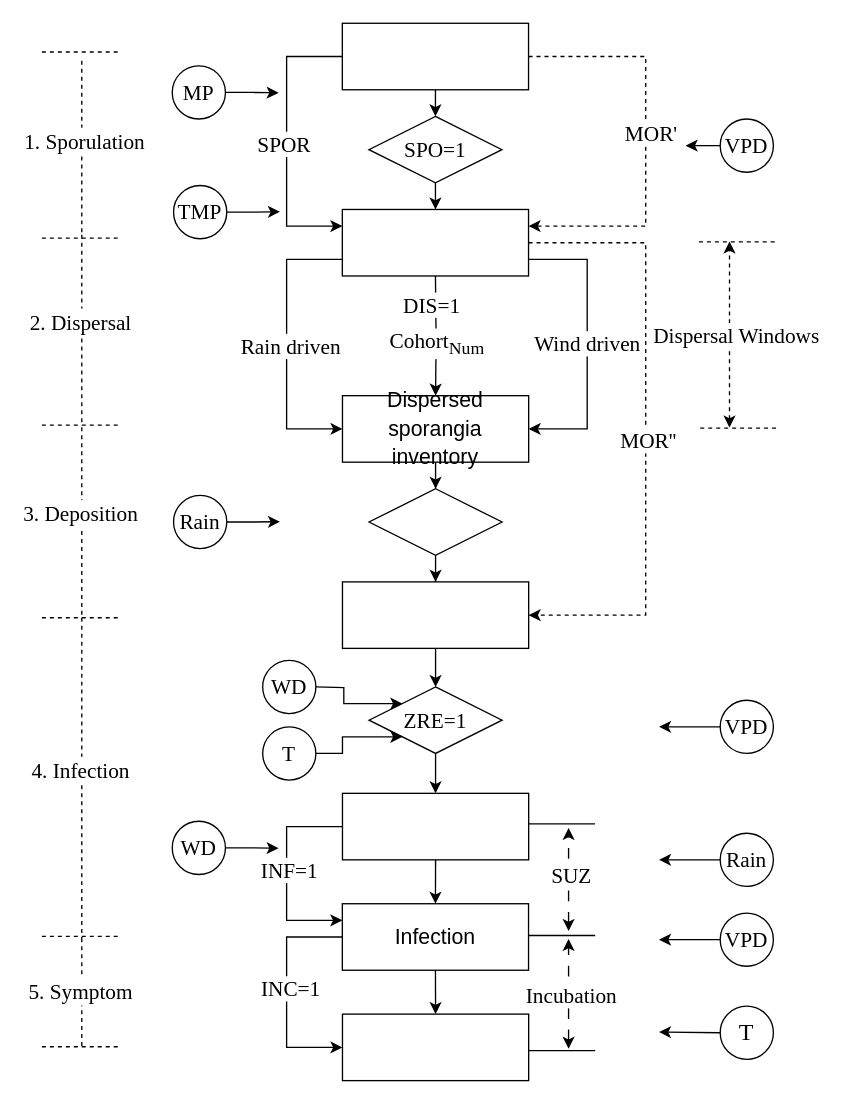
Image size: 842x1104. Some labels were removed from this diagram. The box of each missing label's shape, as (x1, y1, x2, y2) in pixels:
Attached sporangia inventory: (341, 208, 529, 276)
DEP=1: (368, 487, 502, 555)
Deposited sporangia inventory: (341, 581, 529, 648)
Inoculum sources in the area: (341, 22, 529, 90)
Oil Spot: (341, 1013, 529, 1081)
Zoospore: (341, 792, 529, 860)
